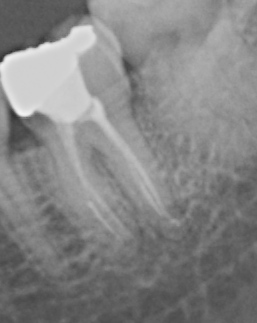fracture: (85, 197, 121, 241)
